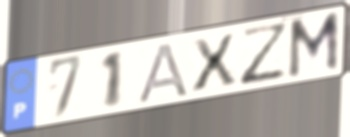1: (98, 48, 125, 112)
7: (46, 52, 83, 125)
A: (136, 40, 191, 105)
M: (285, 9, 341, 82)
X: (189, 31, 240, 95)
Z: (238, 20, 292, 89)
